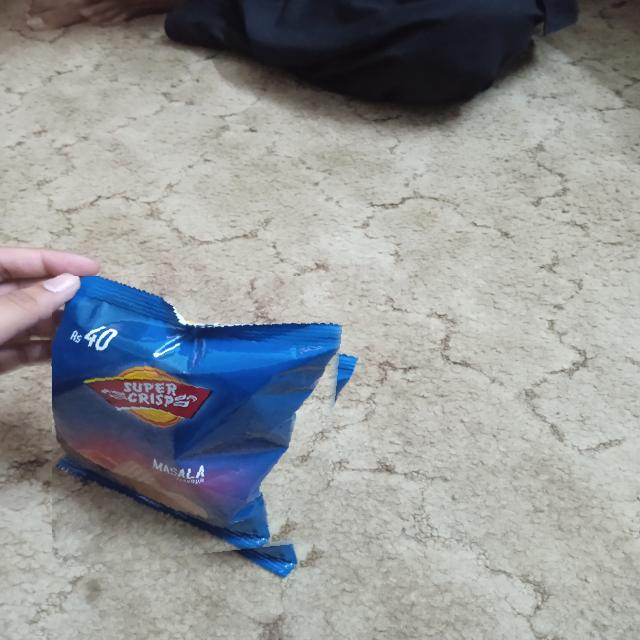Plastic: (52, 276, 350, 572)
